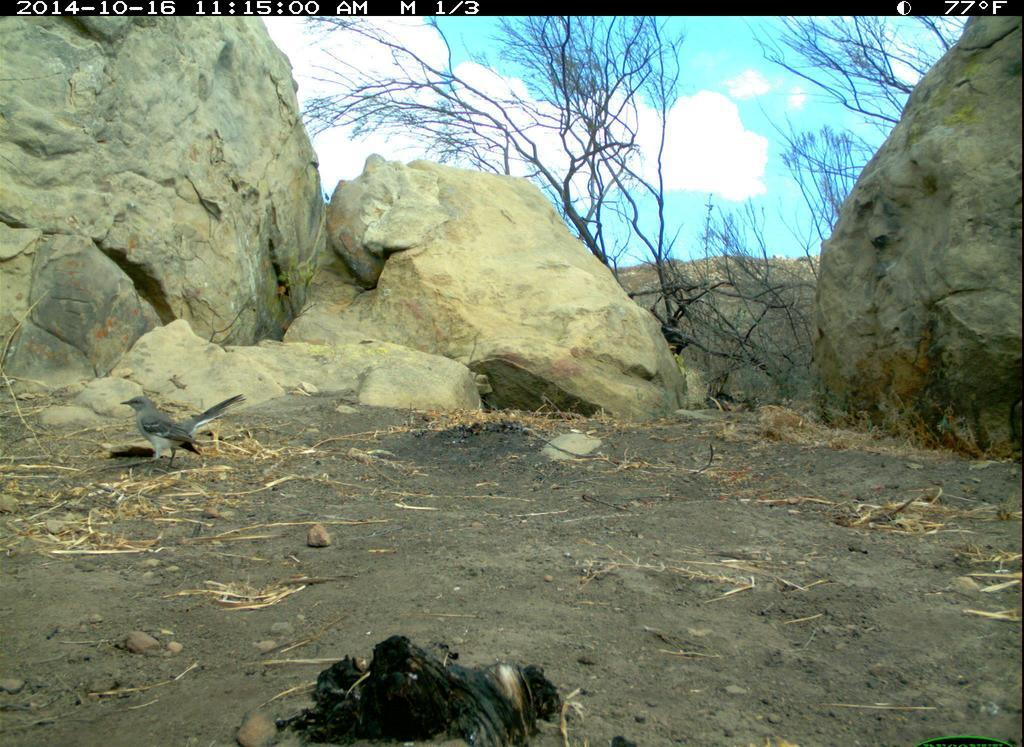bird: (118, 388, 246, 491)
